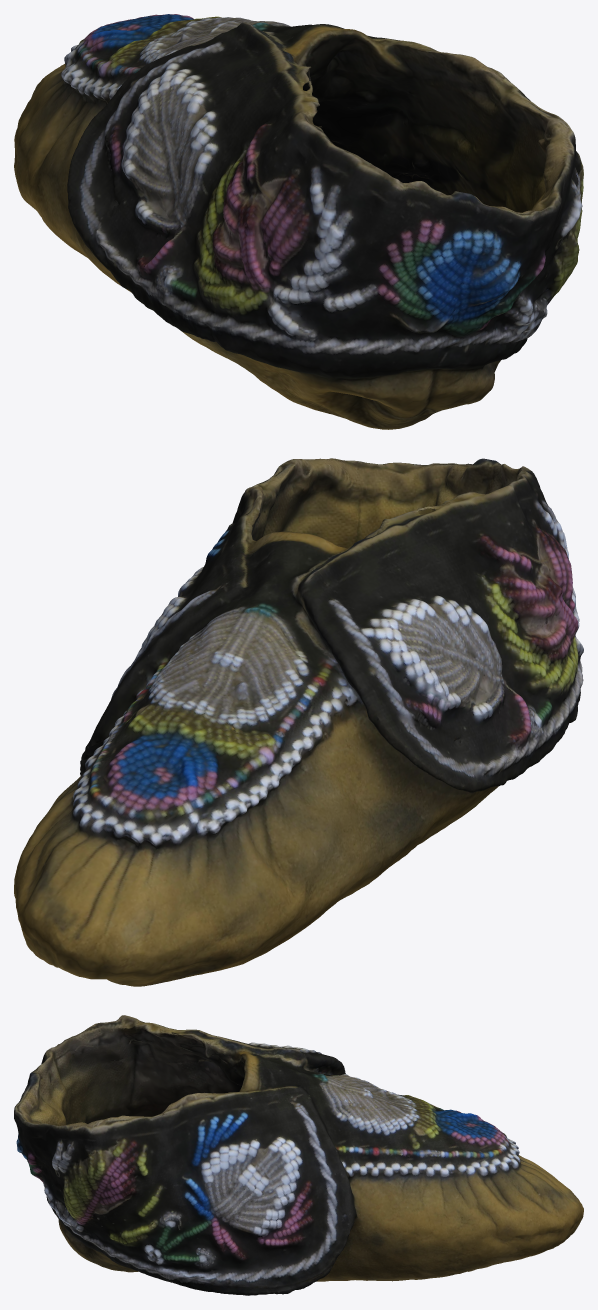
3 renders of one model, top to bottom at view 1: azimuth 30°, elevation 25°; view 2: azimuth 150°, elevation 25°; view 3: azimuth 270°, elevation 25°, orthographic. The views are drawn at different scales.
Parts seen in each view (by area): view 1: Object_2; view 2: Object_2; view 3: Object_2.
Part boxes in pixels (x1=…): Object_2: x1=14, y1=14, x2=583, y2=429; Object_2: x1=14, y1=458, x2=583, y2=986; Object_2: x1=14, y1=1015, x2=583, y2=1295.
Bounding box in the file's own units: 1.29 × 1.05 × 2.51.
1 material, 1 textured.
